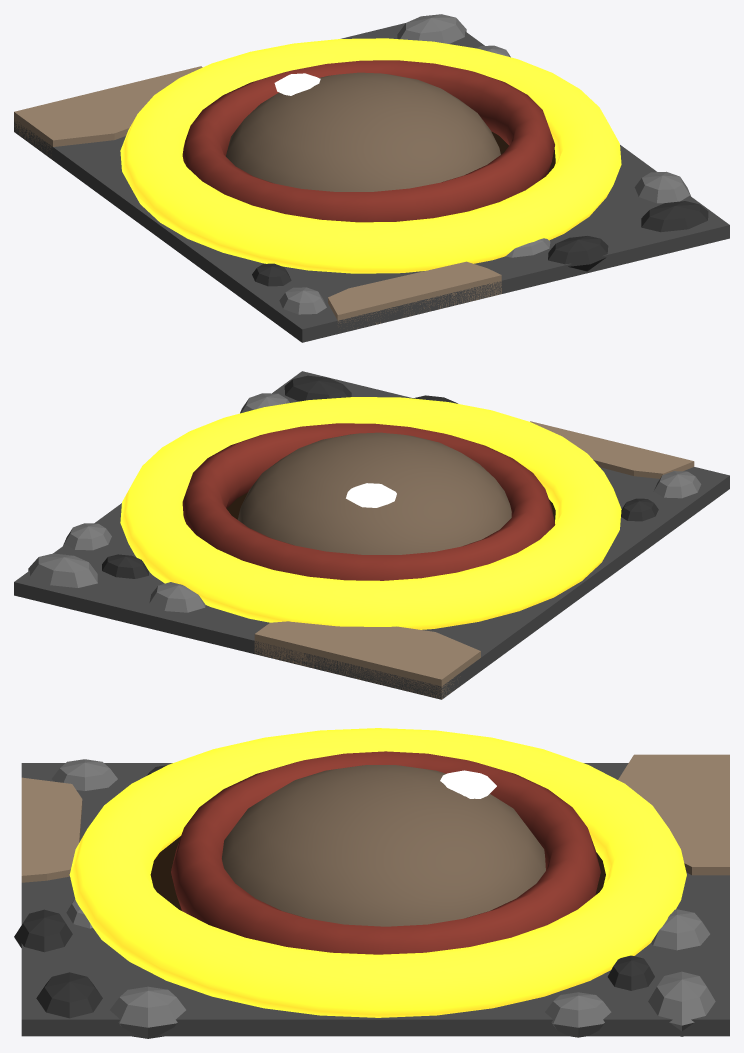
File: newsha-93-f2.glb
3 views of the same model, one above another, from view 1: azimuth 30°, elevation 25°; view 2: azimuth 150°, elevation 25°; view 3: azimuth 270°, elevation 25° (orthographic). The views are drawn at different scales.
Visible parts, largest first — view 1: newsha-93-f2; view 2: newsha-93-f2; view 3: newsha-93-f2.
Part boxes in pixels (x1=…): newsha-93-f2: x1=14, y1=14, x2=729, y2=342; newsha-93-f2: x1=14, y1=371, x2=729, y2=699; newsha-93-f2: x1=14, y1=728, x2=729, y2=1038.
Size of the model in its own units: 2.06 by 0.46 by 2.36.
